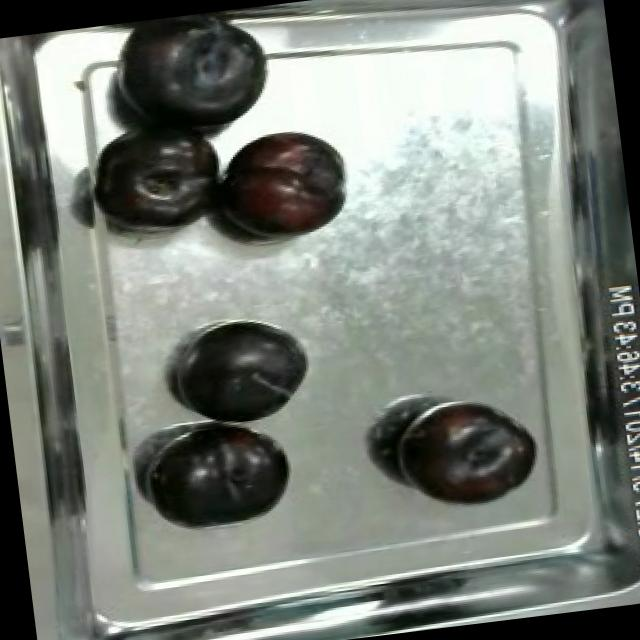Fruit: (97, 7, 279, 148), (141, 410, 302, 538), (383, 389, 544, 516), (207, 116, 359, 250), (82, 115, 240, 242), (168, 312, 319, 432)
